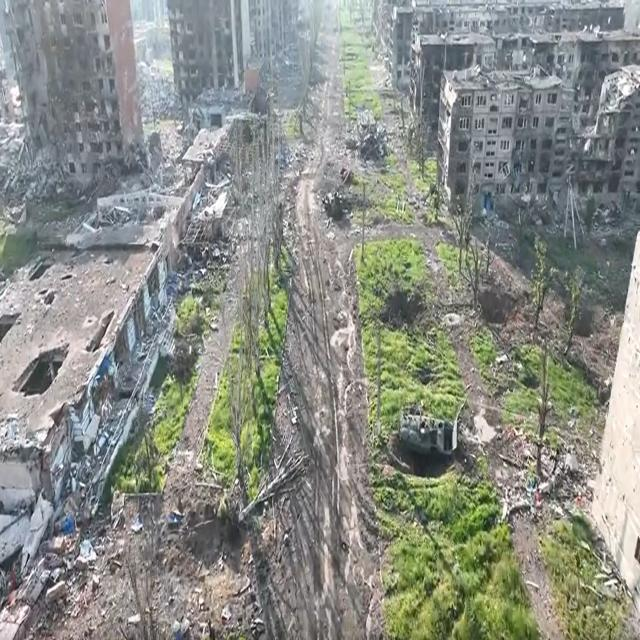AIFV: (399, 414, 461, 459)
Destroyed: (324, 192, 345, 223)
